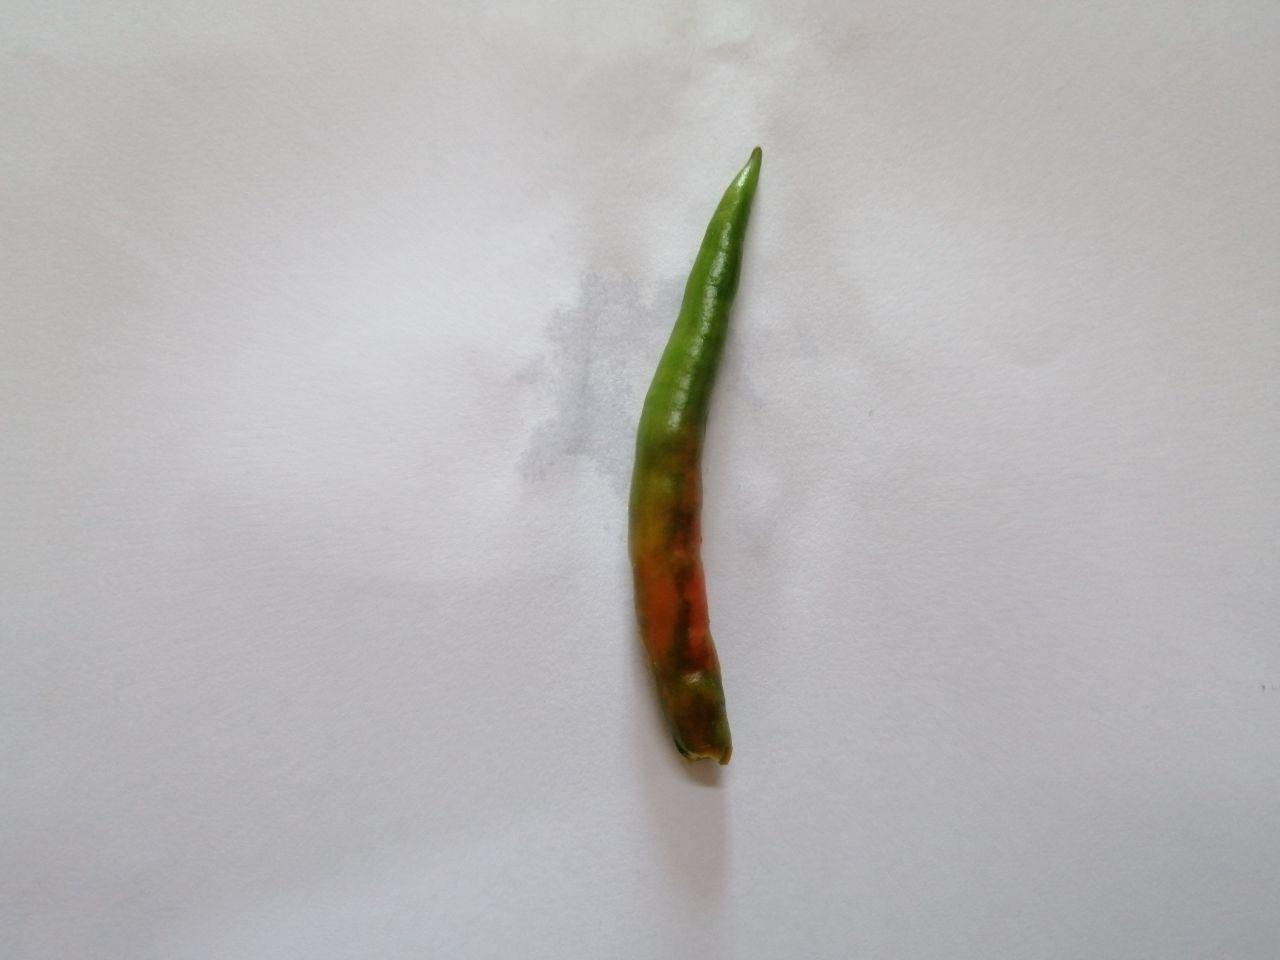lada kuning: (618, 137, 777, 786)
